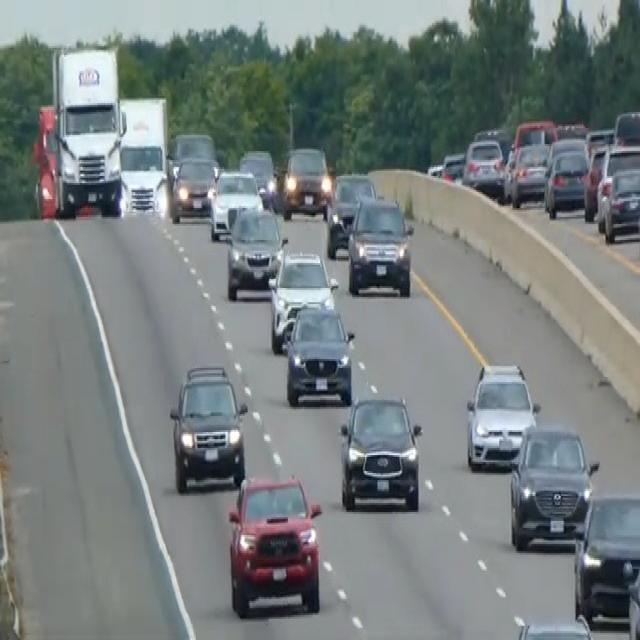car: (226, 471, 323, 617), (508, 420, 598, 550), (168, 361, 248, 492), (338, 391, 423, 512), (572, 490, 639, 620), (465, 359, 539, 471), (283, 301, 355, 407), (267, 247, 338, 352), (347, 194, 414, 297), (224, 202, 287, 298), (326, 170, 376, 258), (596, 142, 639, 242), (208, 167, 262, 240), (281, 144, 331, 219), (170, 153, 218, 222), (543, 146, 589, 218), (509, 140, 550, 208), (461, 135, 505, 197), (238, 148, 278, 208), (509, 612, 599, 638), (582, 142, 610, 220), (167, 128, 216, 172), (612, 106, 639, 148), (627, 544, 639, 638), (439, 151, 465, 183)
lorry: (49, 44, 126, 217)
